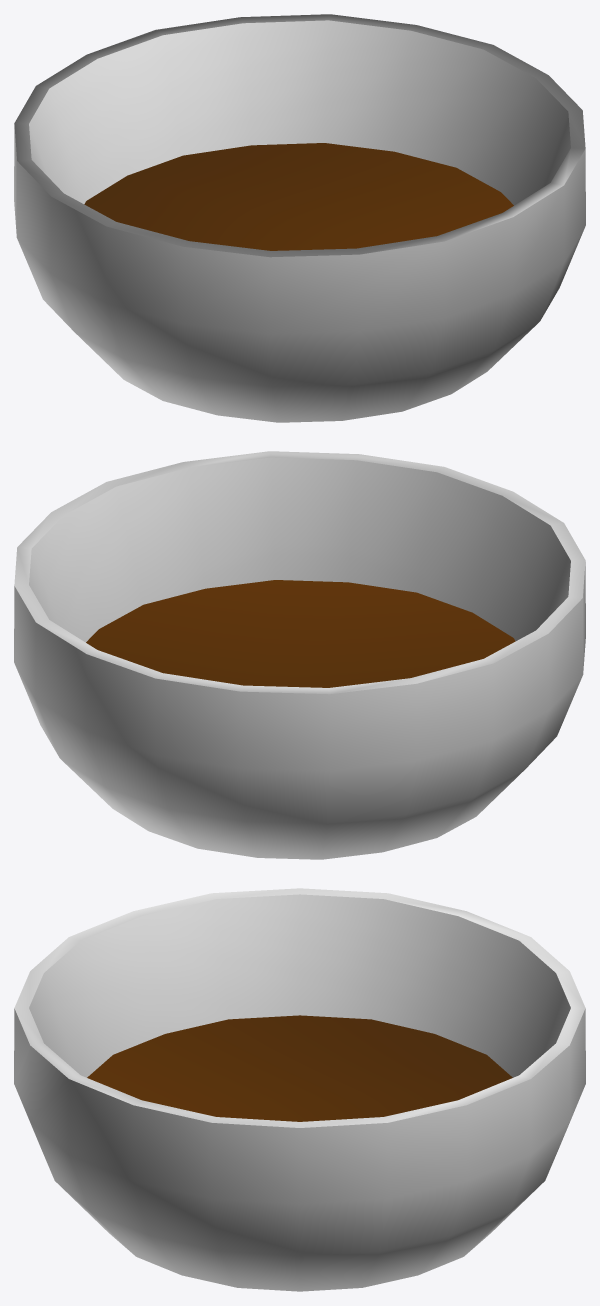
Rendered from Sushi Sauce_2.fbx.
3 views of the same model, one above another, from view 1: azimuth 30°, elevation 25°; view 2: azimuth 150°, elevation 25°; view 3: azimuth 270°, elevation 25° (orthographic).
Visible parts, largest first — view 1: Sushi Sauce_2; view 2: Sushi Sauce_2; view 3: Sushi Sauce_2.
Boxes of the visible parts, x1=… form: Sushi Sauce_2: x1=14, y1=14, x2=585, y2=422; Sushi Sauce_2: x1=14, y1=451, x2=585, y2=859; Sushi Sauce_2: x1=14, y1=888, x2=585, y2=1291.
Bounding box in the file's own units: 0.0661 × 0.0255 × 0.0666.
